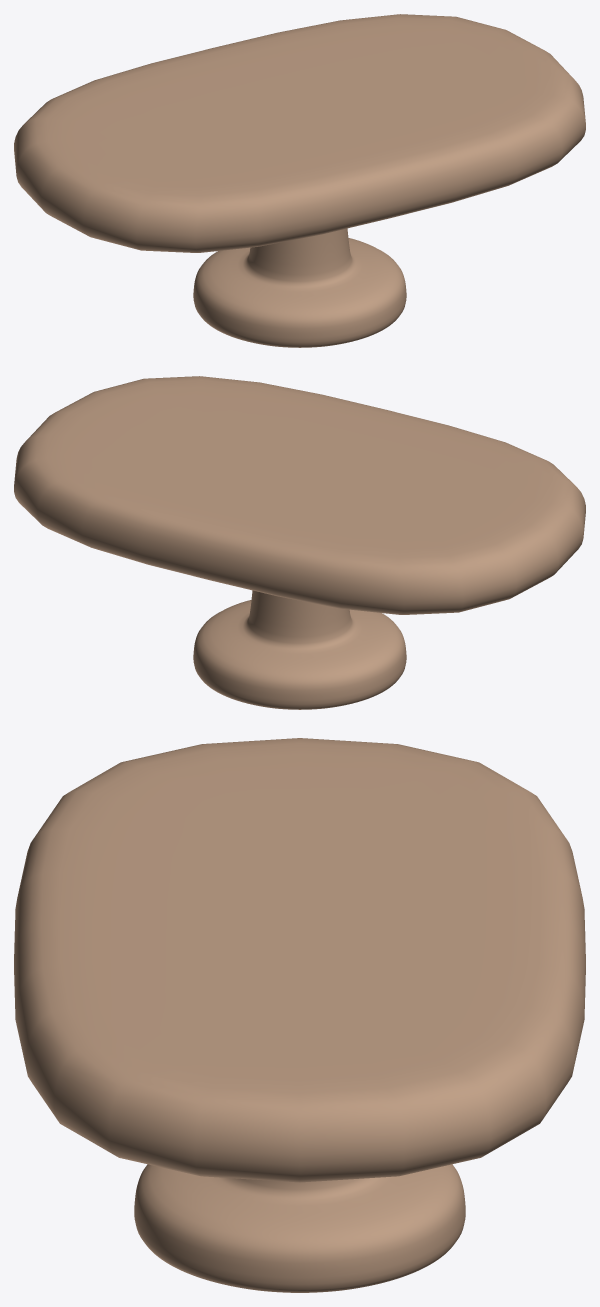
File: coffeetable.fbx
3 renders of one model, top to bottom at view 1: azimuth 30°, elevation 25°; view 2: azimuth 150°, elevation 25°; view 3: azimuth 270°, elevation 25°, orthographic. The views are drawn at different scales.
Parts seen in each view (by area): view 1: Coffee_Table, Coffee_Table_Base; view 2: Coffee_Table, Coffee_Table_Base; view 3: Coffee_Table, Coffee_Table_Base.
Part boxes in pixels (left/top/right/bottom): Coffee_Table: left=14, top=14, right=585, bottom=252; Coffee_Table_Base: left=193, top=228, right=406, bottom=347; Coffee_Table: left=14, top=376, right=585, bottom=614; Coffee_Table_Base: left=193, top=590, right=406, bottom=709; Coffee_Table: left=14, top=738, right=585, bottom=1182; Coffee_Table_Base: left=134, top=1164, right=465, bottom=1292.
Bounding box in the file's own units: 241 × 89.41 × 149.
